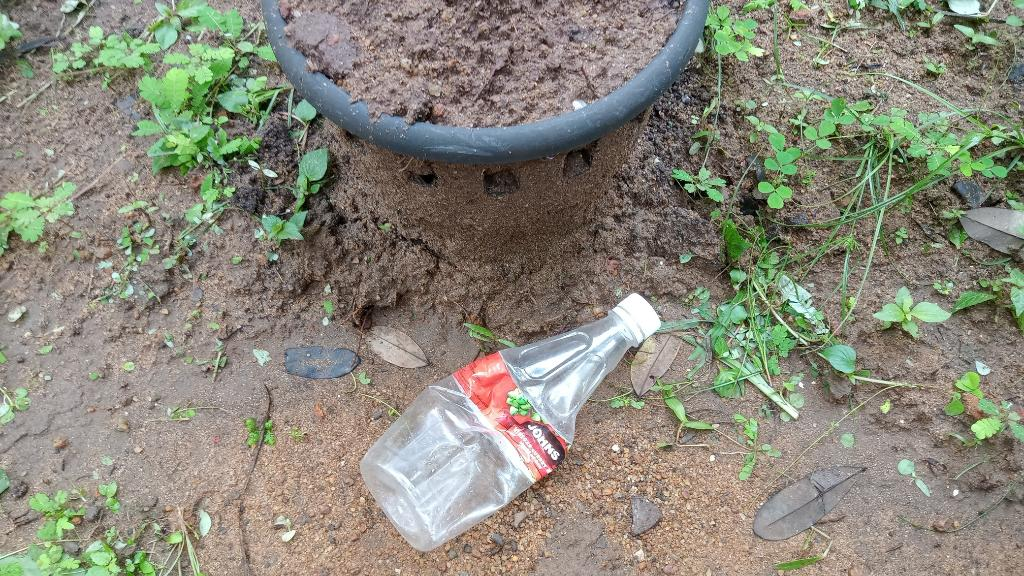garbage: (430, 232, 598, 576)
